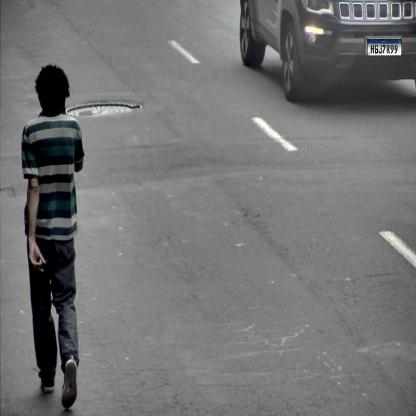PlacaM: (367, 39, 402, 56)
